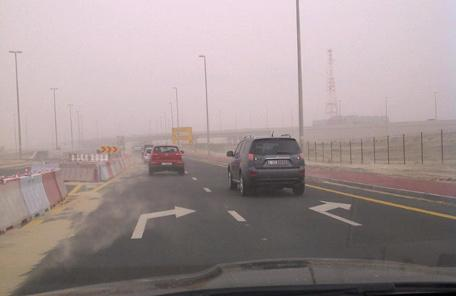car: (226, 130, 307, 197), (147, 144, 185, 175), (142, 147, 162, 163)
